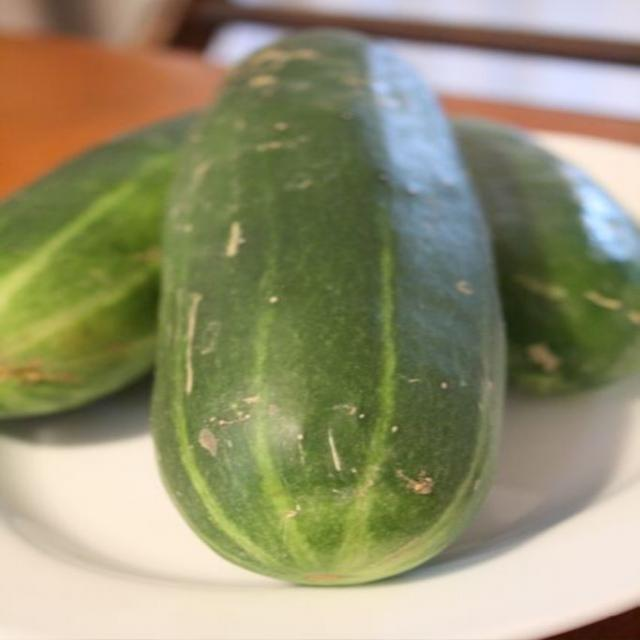Cucumber: (144, 24, 508, 590), (0, 108, 201, 422), (451, 117, 639, 395)
